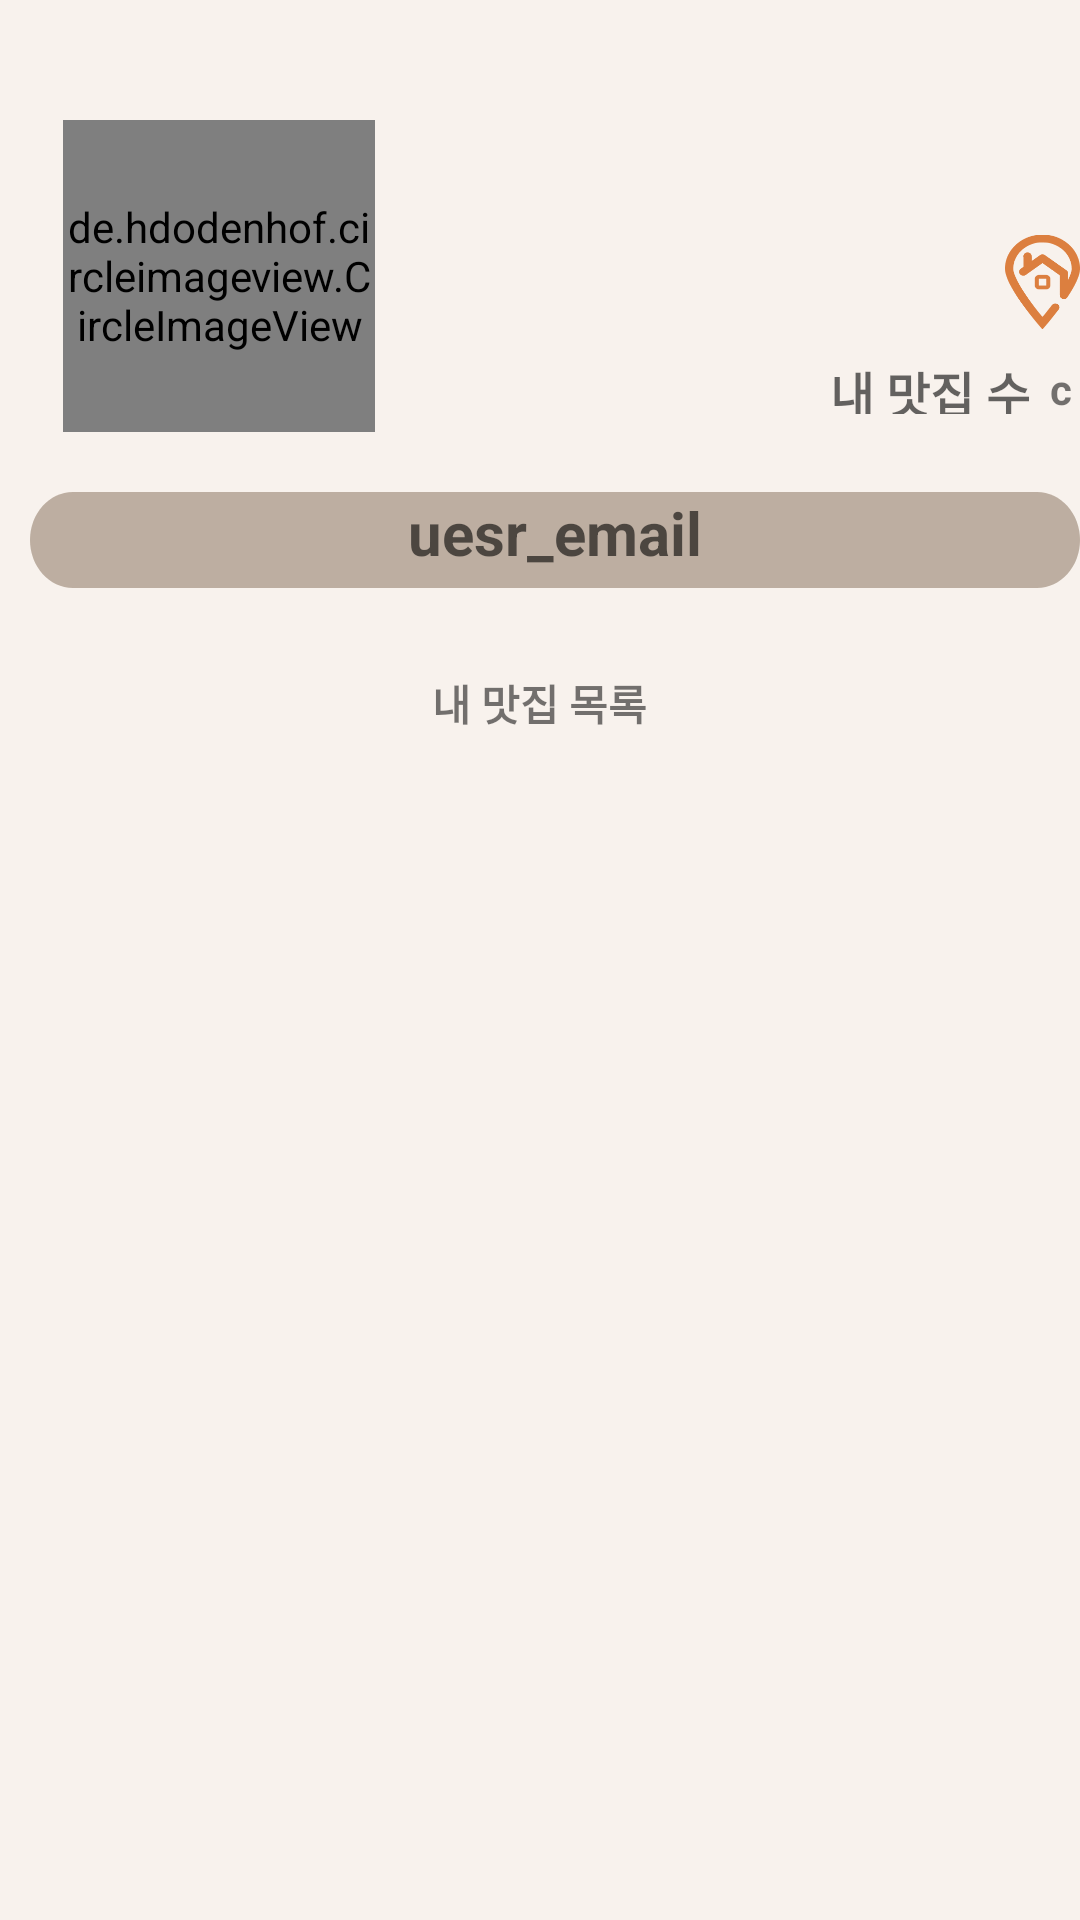

Screen size 1080 × 1920. Icon name, then its box in pixels as [left=x1, top=y1, right=x2, bottom=y2]:
markericon: [left=1005, top=235, right=1080, bottom=329]
